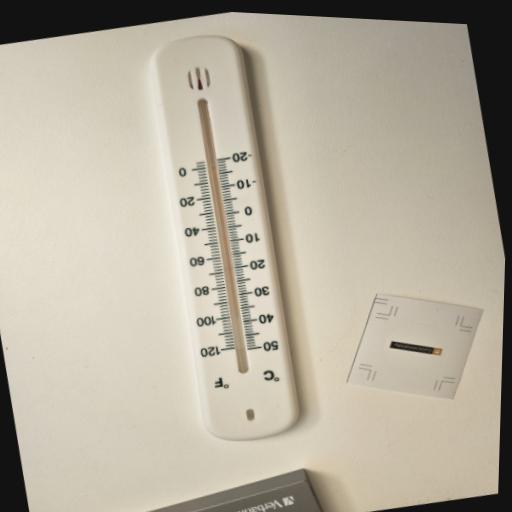thermometer: (130, 25, 316, 452)
